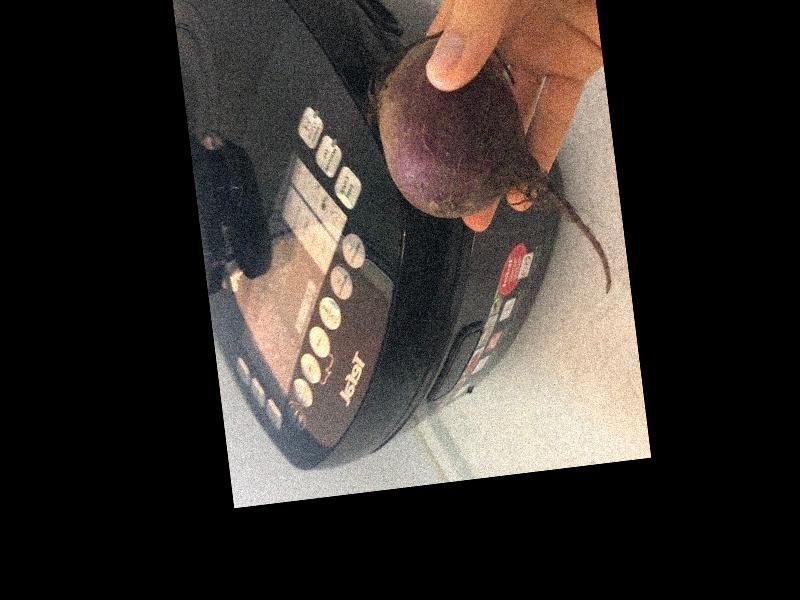Beet: (360, 17, 611, 318)
